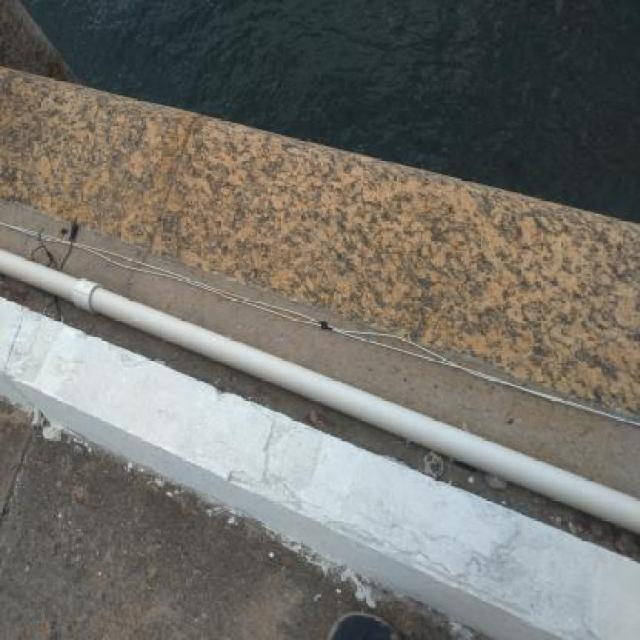gas: (0, 247, 640, 537)
